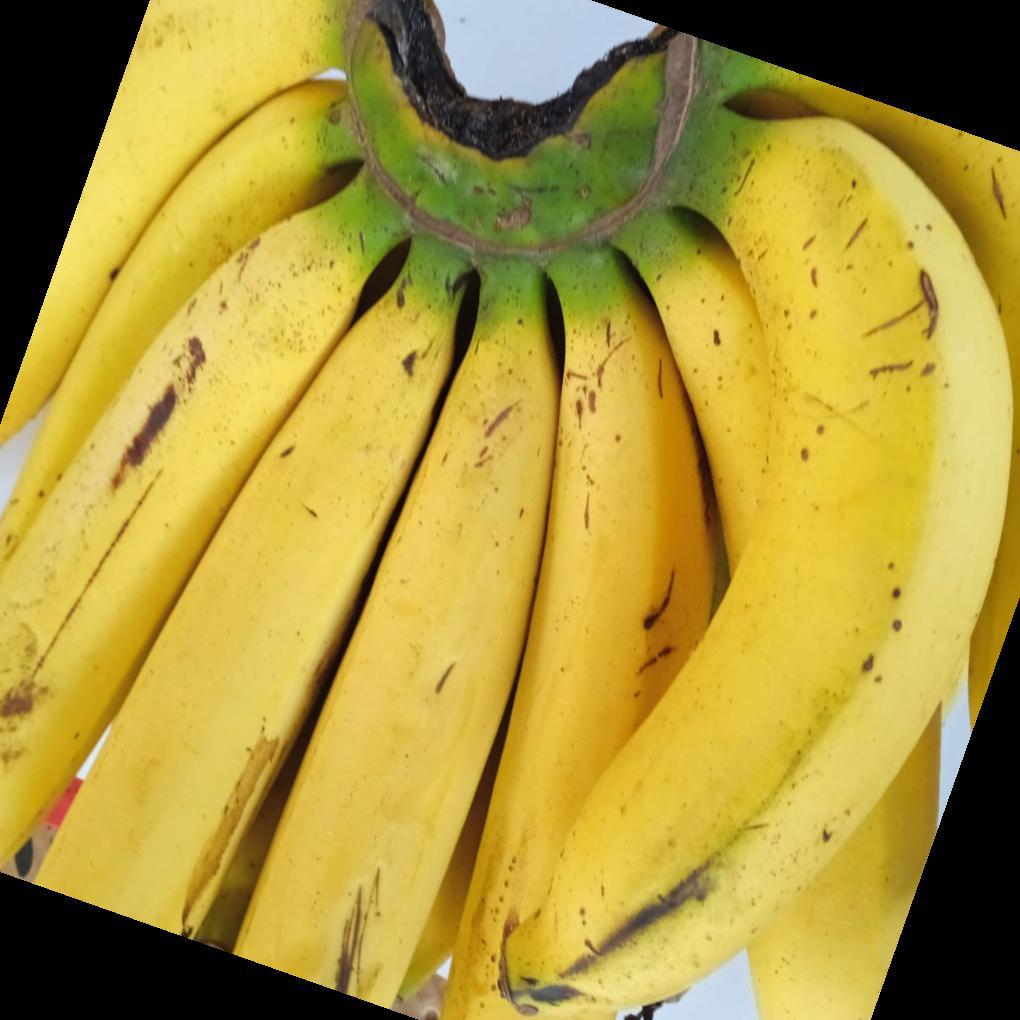Banana Ripe: (8, 0, 1020, 1020), (626, 90, 979, 1020), (206, 210, 590, 1020)
